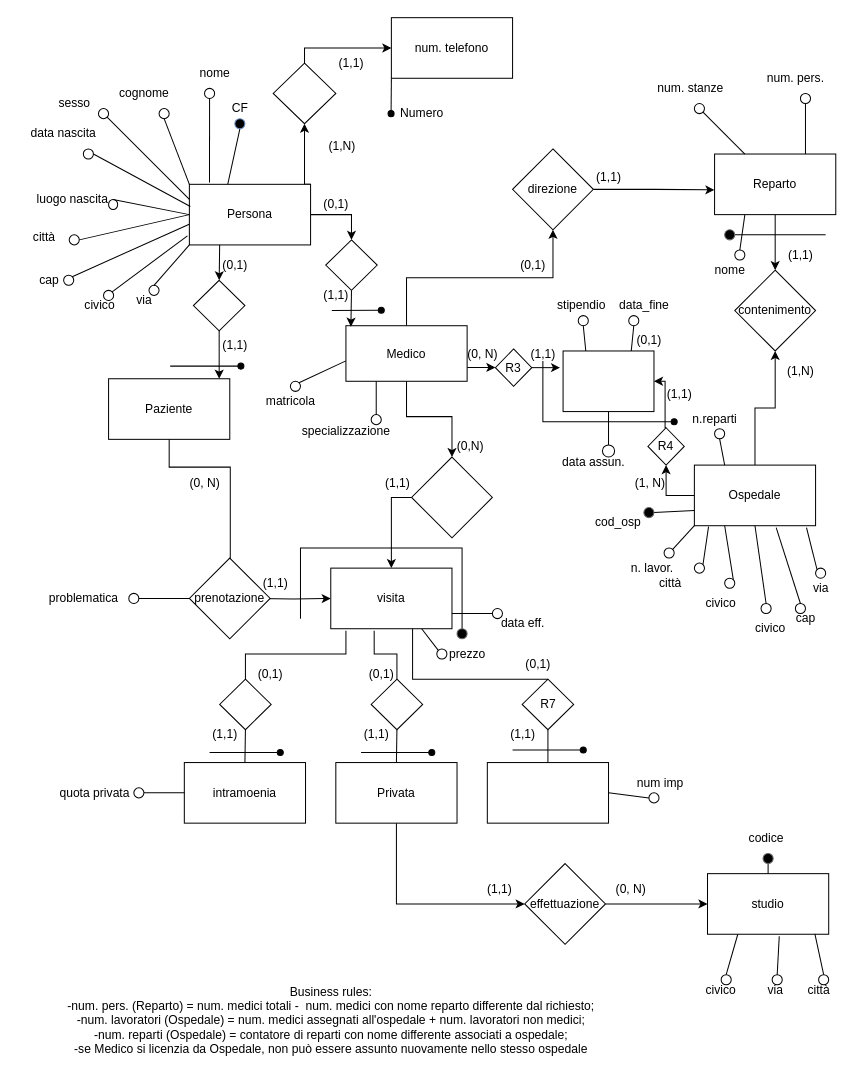
The diagram is 861 pixels wide and 1083 high, and some of its shapes have lost their labels. Here are the shapes that lost their labels. From the top down, the box of each, then its label:
(272, 62, 336, 124): possesso
(325, 239, 377, 290): R2
(192, 279, 245, 331): R1
(562, 350, 654, 412): lavoro
(411, 456, 492, 538): gestione
(219, 678, 271, 730): R5
(370, 678, 423, 730): R6
(486, 762, 609, 823): SSN/impegnativa
